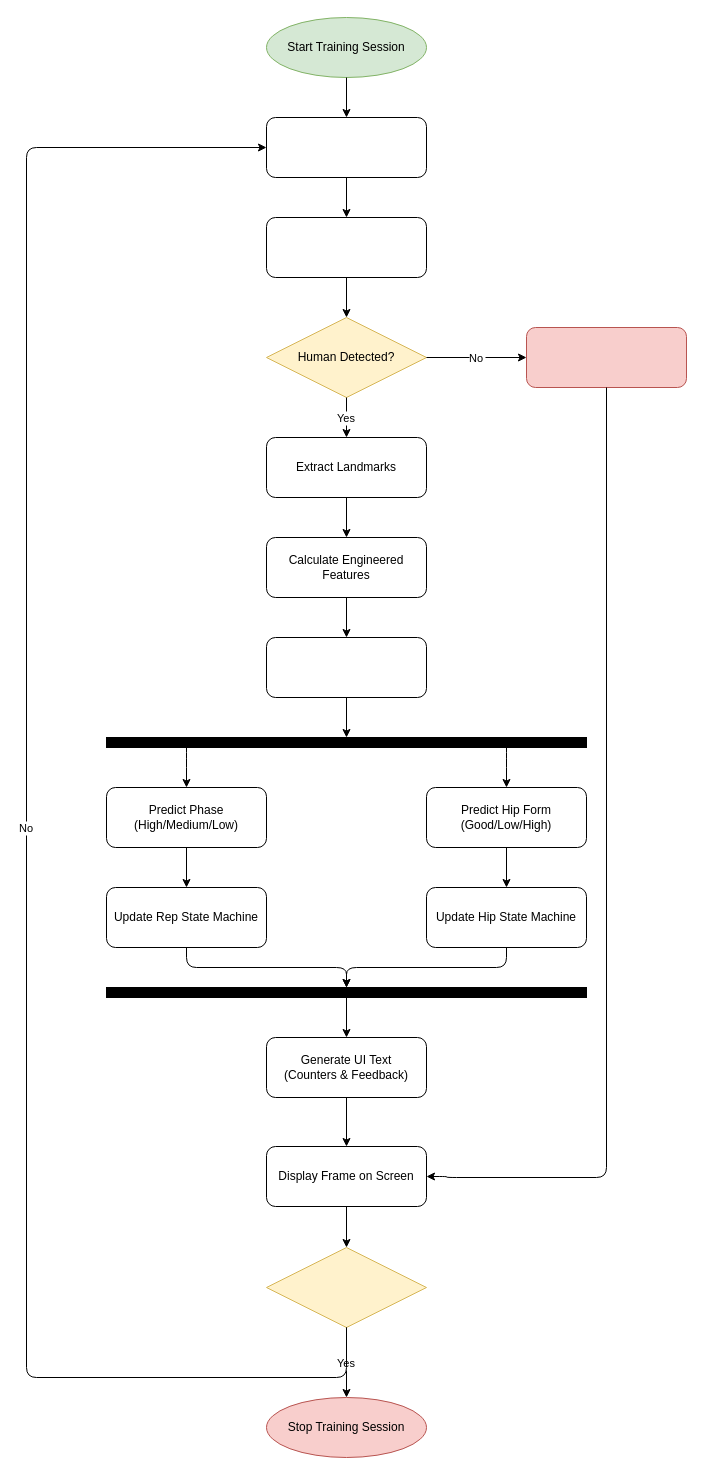
Image size: 704x1475. Some labels were removed from this diagram. The shapes that lost their labels are listed below. From the top down, each one's centre as x and y in pixels, then its label:
[346,147]: Capture Video Frame
[346,247]: Run MediaPipe Detection
[606,357]: Show "No Human Detected" Warning
[346,667]: Run KNN Predictor
[346,1287]: Stop Training?
